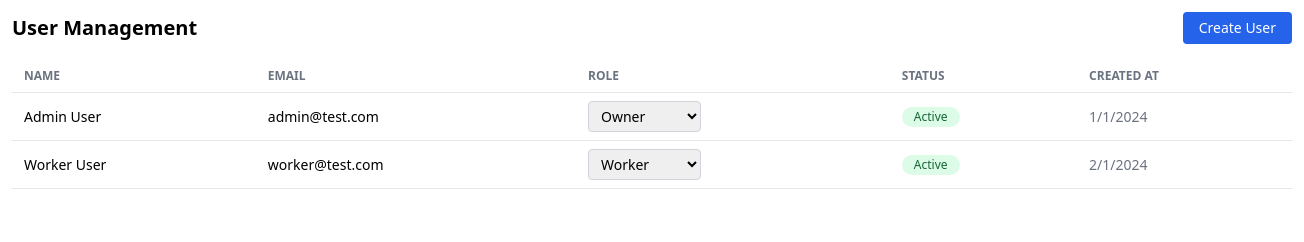
Test case: AdminUsersPage › toggle active shows 409 error for last-owner protection
The width and height of the screenshot is (1304, 242).
Expected: the table with test id "user-table" is shown, [12,60,1292,189]
Click the button with test id "toggle-active" in the row of "Admin User" at (931, 117), box [902,107,960,127]
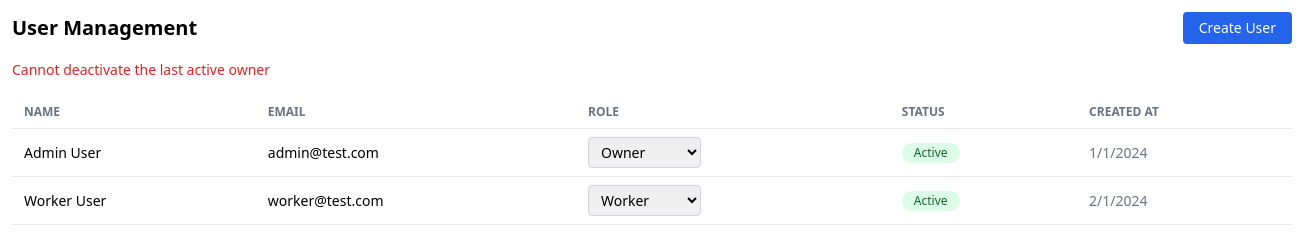
Now the text "Cannot deactivate the last active owner" is shown, box [12,60,270,79]
